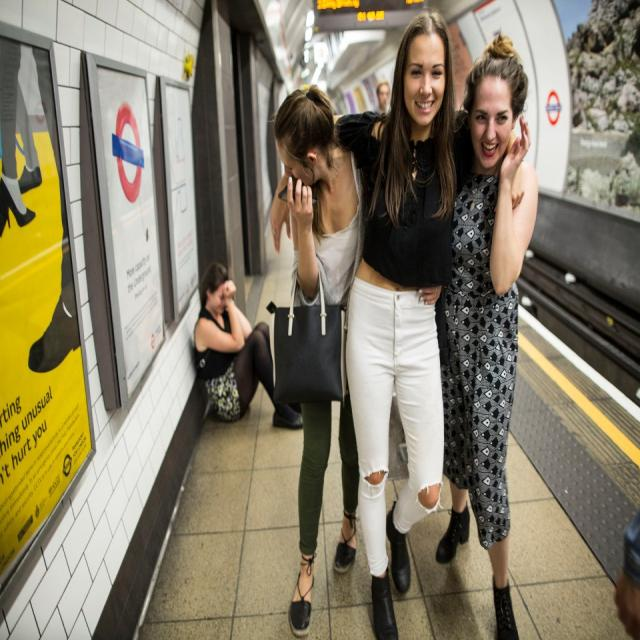body: (269, 6, 529, 639), (434, 36, 541, 640), (272, 80, 362, 640), (191, 258, 308, 432), (372, 79, 394, 121)
